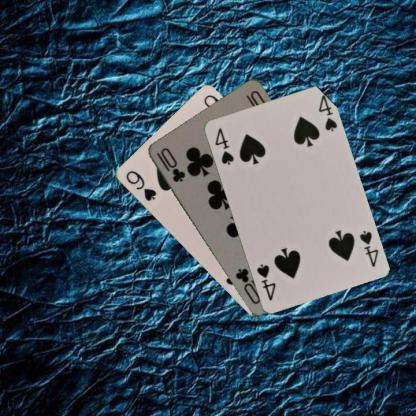10c: (154, 144, 186, 184)
4s: (212, 125, 235, 166), (356, 228, 379, 268)
9s: (123, 168, 157, 202)
